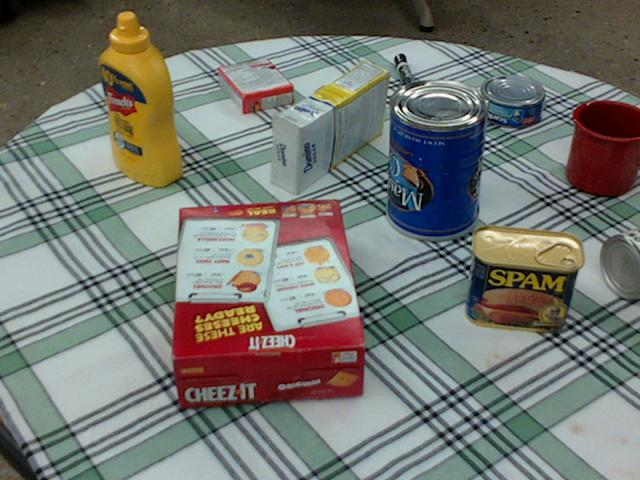cracker_box: (171, 199, 366, 408)
gelatin_box: (218, 59, 293, 113)
large_marker: (395, 53, 418, 103)
master_chef_can: (384, 78, 491, 239)
mug: (566, 101, 639, 196)
mustard_bottle: (100, 12, 181, 185)
potted_meat_can: (465, 225, 583, 331)
sugar_box: (272, 61, 388, 194)
tomato_soup_can: (601, 227, 639, 297)
tuna_fish_can: (478, 75, 545, 127)
